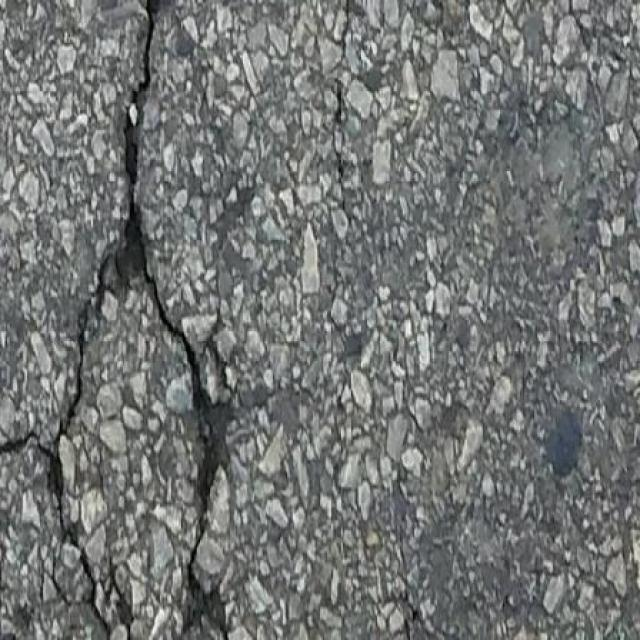Crack: (0, 0, 234, 640), (112, 564, 135, 639)
